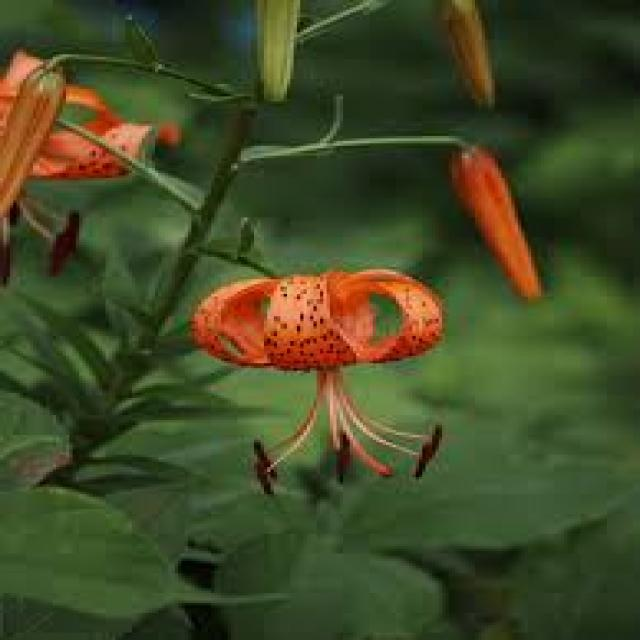lily: (178, 239, 490, 524)
